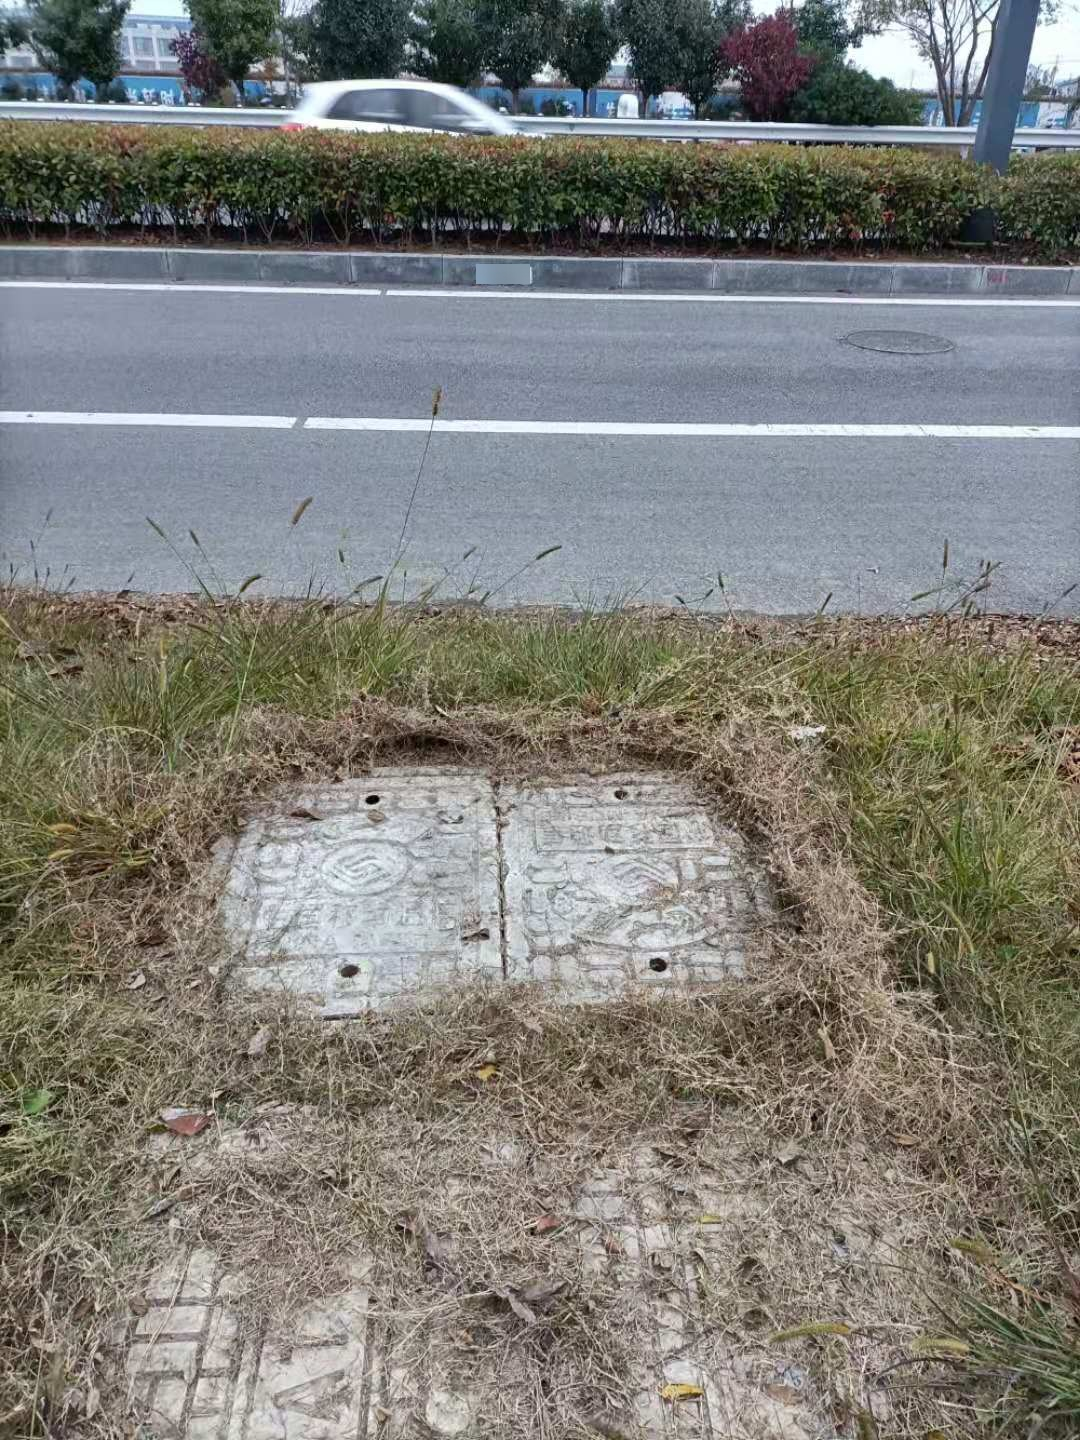good: (205, 765, 778, 1011)
